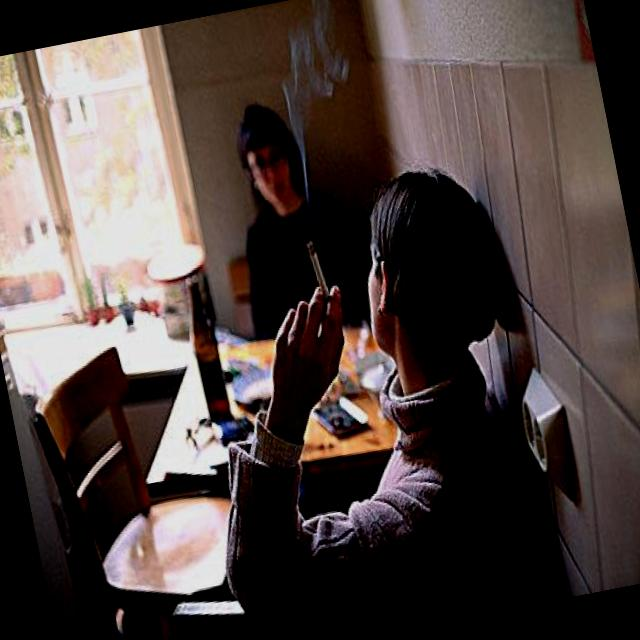cigarette: (306, 233, 330, 306)
